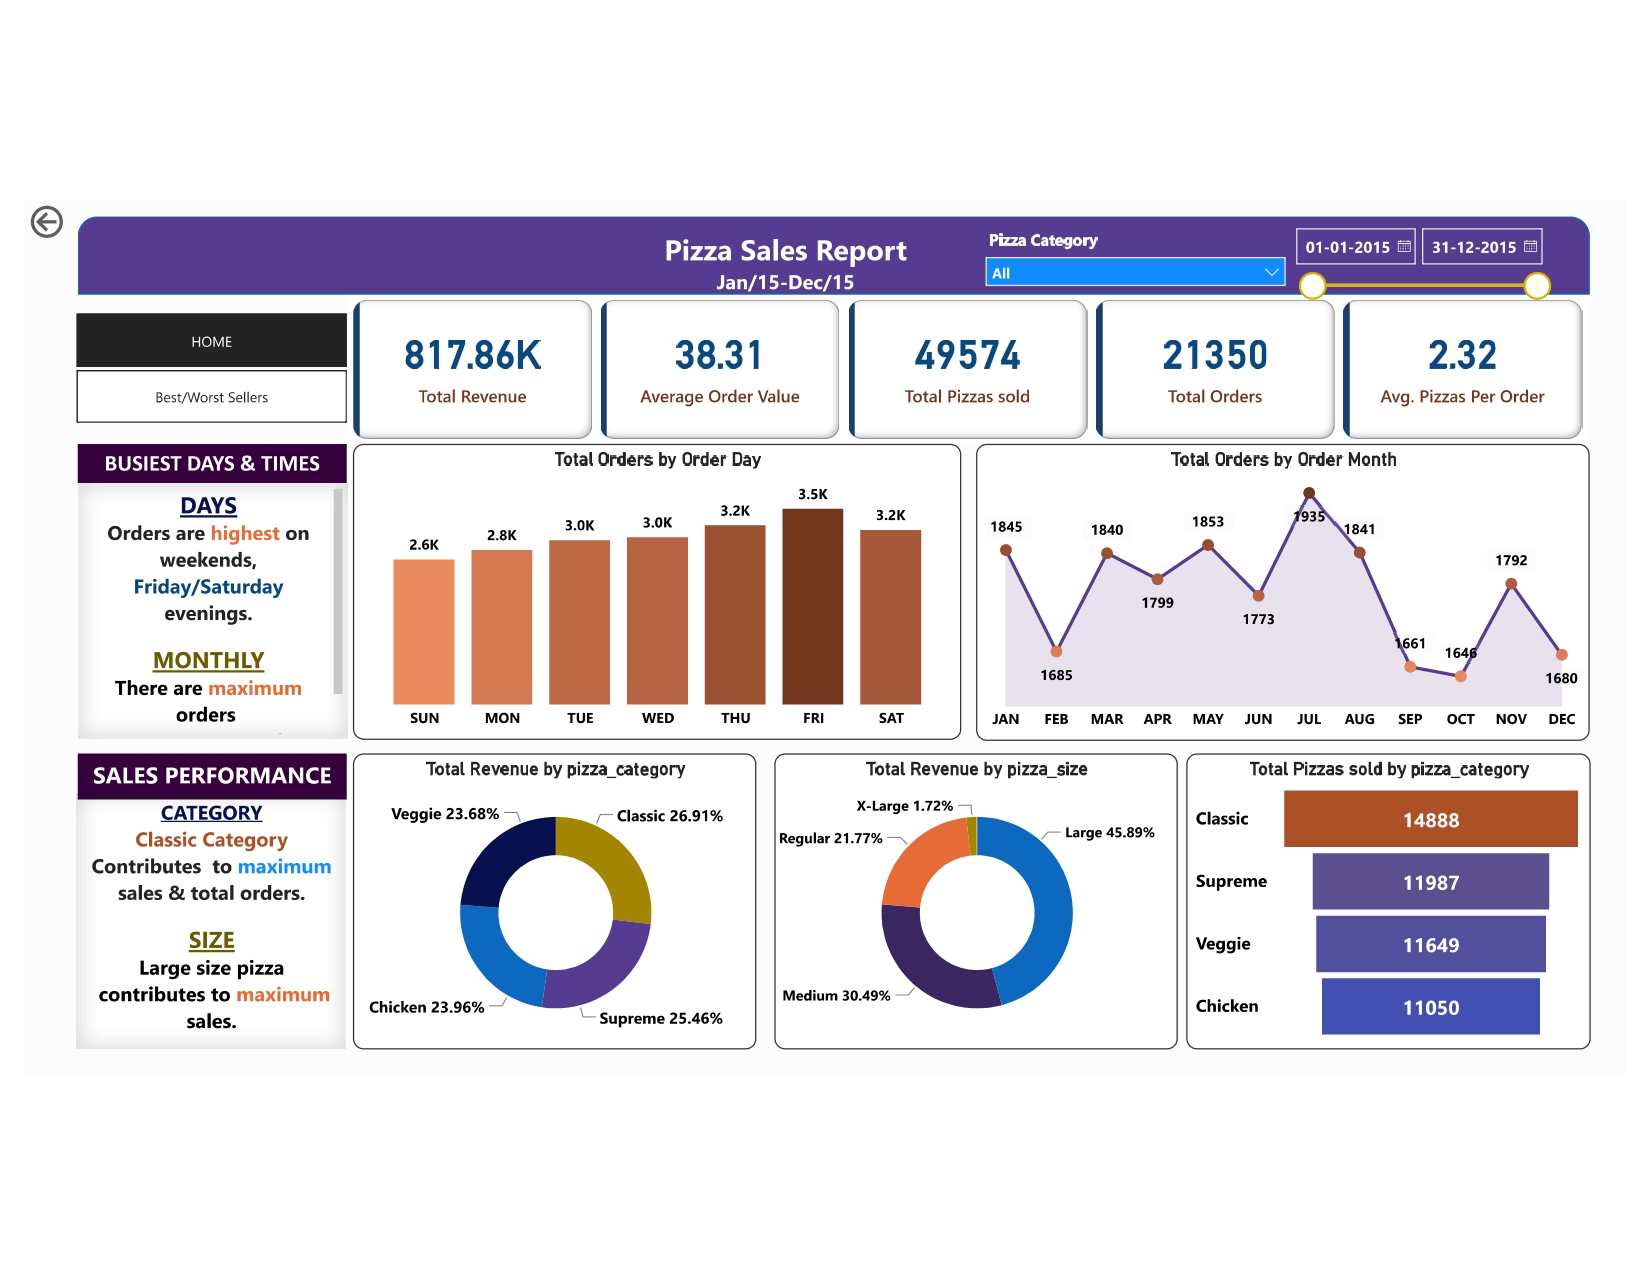

This screenshot's page, from the dashboard's own definition file:
{"tool":"powerbi","page":{"name":"HOME","canvas":[1500,820],"ordinal":0},"visuals":[{"type":"actionButton","box":[0,0,100,40],"z":0},{"type":"cardVisual","fields":{"Data":["pizza_sales.Total Revenue","pizza_sales.Average Order Value","pizza_sales.Total  Pizzas sold","pizza_sales.Total Orders","pizza_sales.Avg. Pizzas Per Order"]},"box":[302.1,87.9,1163.7,140.3],"z":1000},{"type":"shape","box":[49.3,15.4,1416.5,72.4],"z":2000},{"type":"textbox","box":[565,21.7,295,85],"z":3000},{"type":"columnChart","fields":{"Category":["pizza_sales.Order Day"],"Y":["pizza_sales.Total Orders"]},"box":[306.7,228.3,570,276.7],"z":4000},{"type":"areaChart","fields":{"Category":["pizza_sales.Order Month"],"Y":["pizza_sales.Total Orders"]},"box":[890.9,228.1,574.9,277.4],"z":5000},{"type":"donutChart","fields":{"Category":["pizza_sales.pizza_category"],"Y":["pizza_sales.Total Revenue"]},"box":[306.7,518.3,378.3,276.7],"z":6000},{"type":"donutChart","fields":{"Y":["pizza_sales.Total Revenue"],"Category":["pizza_sales.pizza_size"]},"box":[701.7,518.3,378.3,276.7],"z":7000},{"type":"funnel","fields":{"Category":["pizza_sales.pizza_category"],"Y":["pizza_sales.Total  Pizzas sold"]},"box":[1088.3,518.3,378.3,276.7],"z":8000},{"type":"textbox","box":[49.3,228.1,251.2,37],"z":9000},{"type":"textbox","box":[49.3,265.1,252.8,238.9],"z":10000},{"type":"textbox","box":[47.8,554.9,252.8,238.9],"z":11000},{"type":"textbox","box":[49.3,517.9,251.2,43.2],"z":12000},{"type":"slicer","fields":{"Values":["pizza_sales.pizza_category"]},"box":[890.4,21.3,300.4,65.8],"z":13000},{"type":"slicer","fields":{"Values":["pizza_sales.order_date"]},"box":[1178.3,16,259.5,90.6],"z":14000},{"type":"pageNavigator","box":[47.8,106.4,252.8,49.3],"z":14001},{"type":"pageNavigator","box":[47.8,158.8,252.8,49.3],"z":14002}]}

Visuals, with their boxes on the page's 1500x820 design canvas (x1, y1, x2, y2). These are canvas units, not pixel positions in the 1650x1275 screenshot, which may show the page scaled, cropped or inside an application window:
actionButton: <box>0,0,100,40</box>
cardVisual - pizza_sales.Total Revenue x pizza_sales.Average Order Value: <box>302,88,1466,228</box>
shape: <box>49,15,1466,88</box>
textbox: <box>565,22,860,107</box>
columnChart - pizza_sales.Order Day x pizza_sales.Total Orders: <box>307,228,877,505</box>
areaChart - pizza_sales.Order Month x pizza_sales.Total Orders: <box>891,228,1466,506</box>
donutChart - pizza_sales.pizza_category x pizza_sales.Total Revenue: <box>307,518,685,795</box>
donutChart - pizza_sales.Total Revenue x pizza_sales.pizza_size: <box>702,518,1080,795</box>
funnel - pizza_sales.pizza_category x pizza_sales.Total  Pizzas sold: <box>1088,518,1467,795</box>
textbox: <box>49,228,300,265</box>
textbox: <box>49,265,302,504</box>
textbox: <box>48,555,301,794</box>
textbox: <box>49,518,300,561</box>
slicer - pizza_sales.pizza_category: <box>890,21,1191,87</box>
slicer - pizza_sales.order_date: <box>1178,16,1438,107</box>
pageNavigator: <box>48,106,301,156</box>
pageNavigator: <box>48,159,301,208</box>
